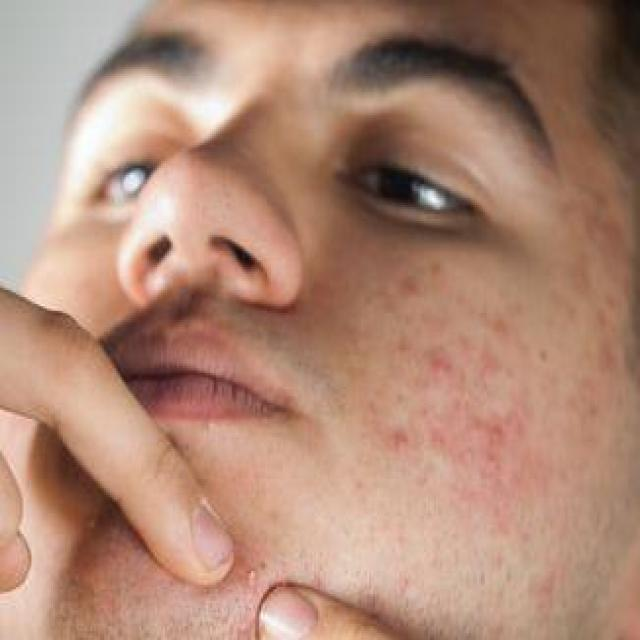Pimples: (397, 267, 420, 295), (244, 562, 262, 590), (391, 426, 406, 454)
